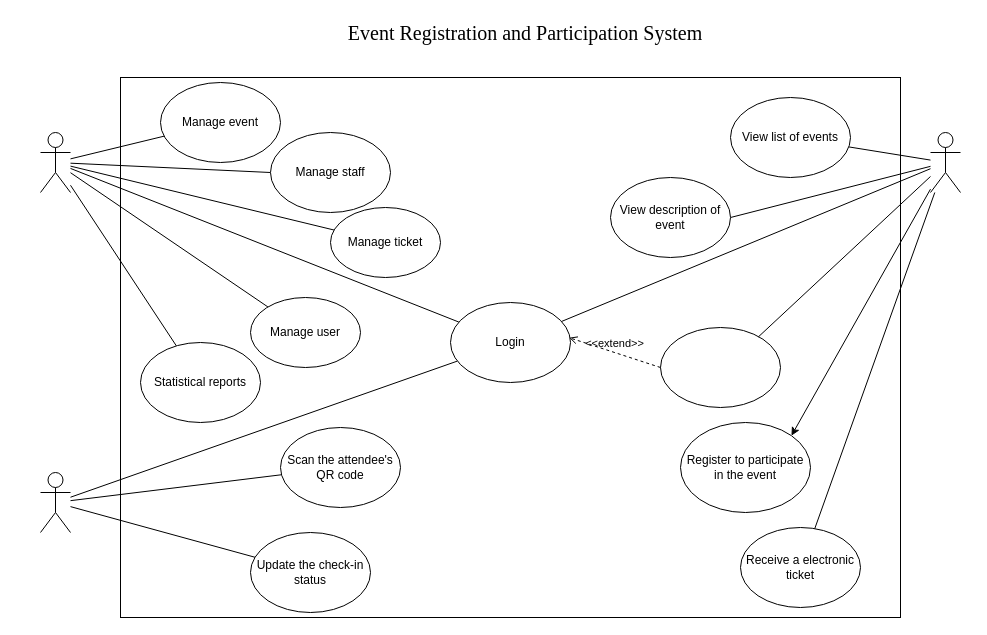
This 987x635 diagram has some shape labels left out. Each missing label, with the box of its shape:
Adminnistrator: (40, 132, 70, 192)
Attendee: (930, 132, 960, 192)
Event Staff: (40, 472, 70, 532)
Register: (660, 326, 780, 408)
